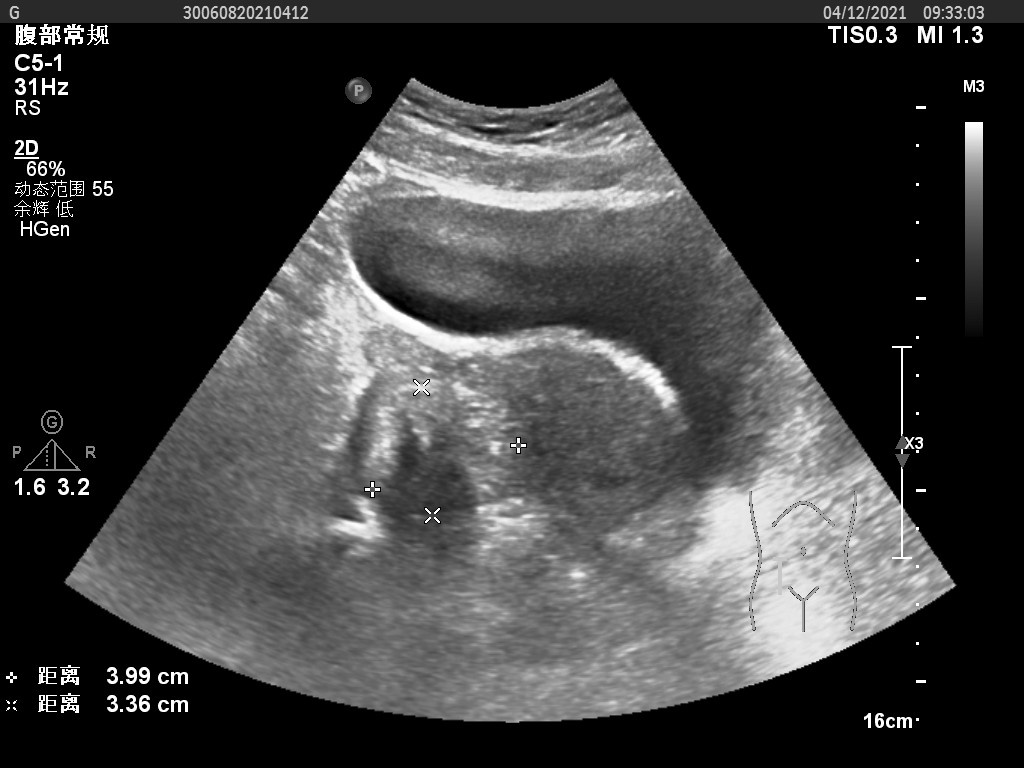肌瘤: (373, 388, 520, 518)
